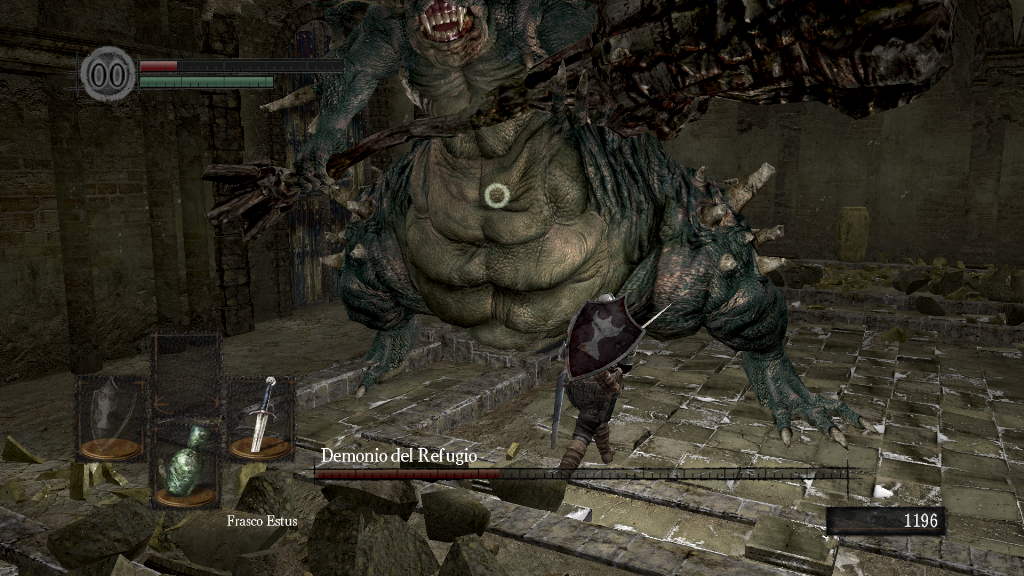asylumDemon: (200, 1, 956, 447)
bossHP: (314, 469, 847, 479)
health: (138, 58, 343, 71)
humanity: (80, 45, 136, 102)
player: (545, 292, 675, 484)
souls: (825, 506, 945, 536)
stamina: (138, 74, 274, 88)
